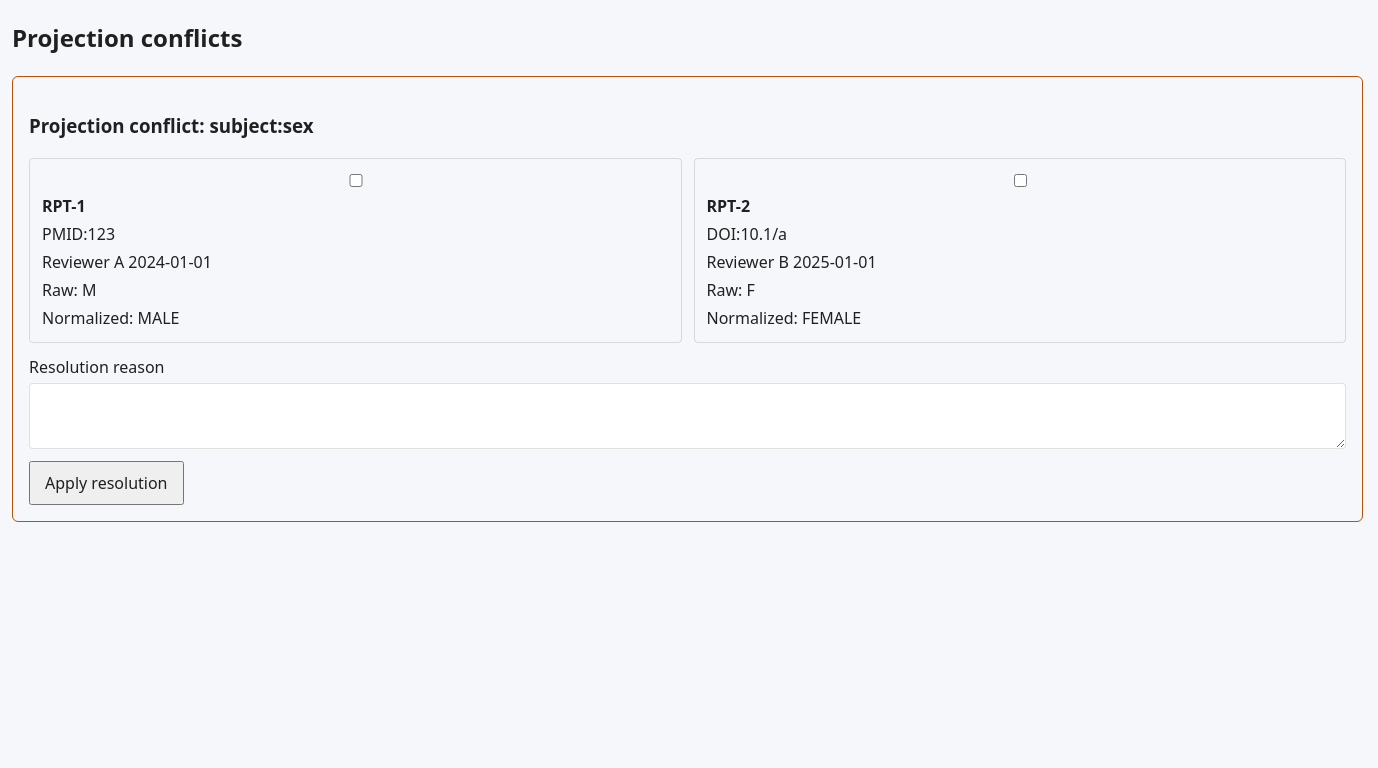
it: ConflictResolutionPanel › shows evidence side by side and requires a rationale
The image size is (1378, 768).
Click the checkbox labelled "RPT-1 PMID:123 Reviewer A 2024-01-01 Raw: M Normalized: MALE" at (356, 181), box [46,174,666,187]
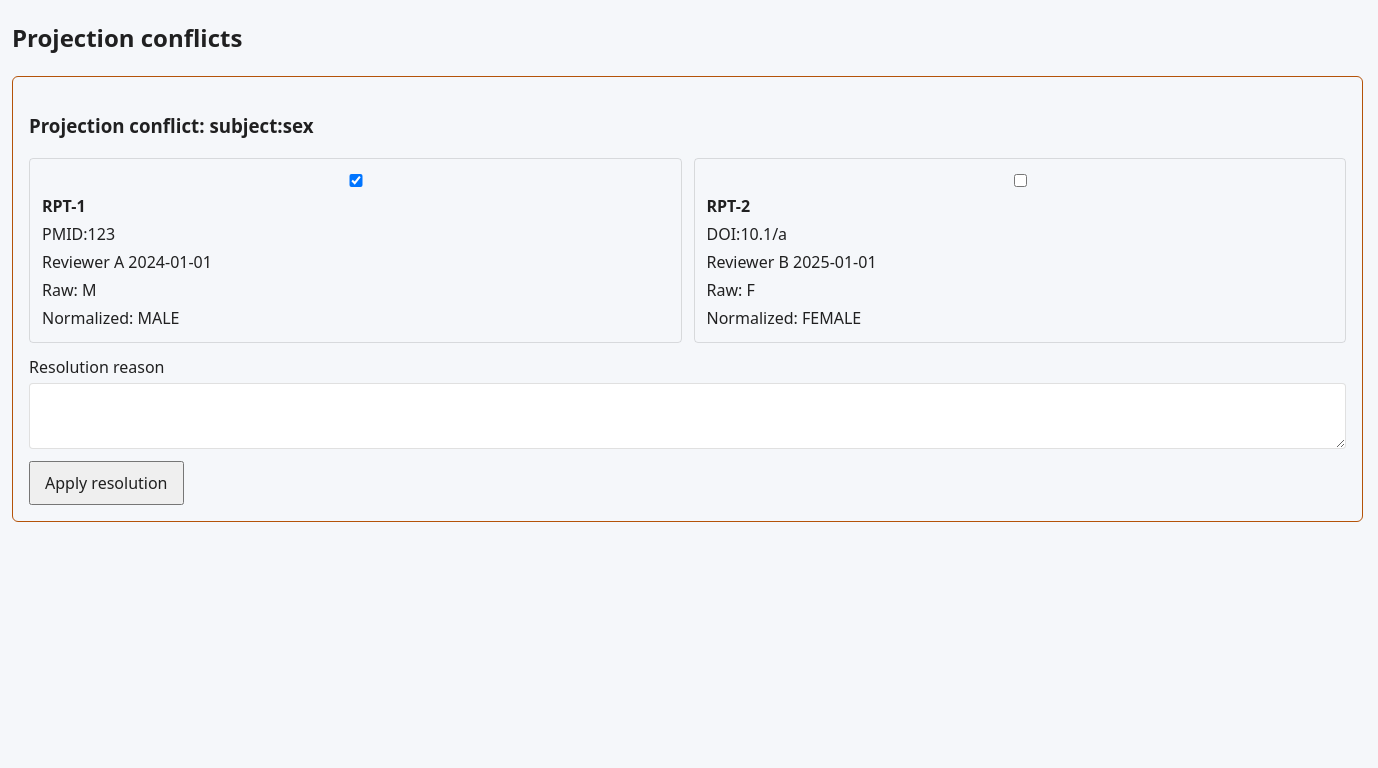
Click the button "Apply resolution" at (106, 483), box [29,461,184,505]
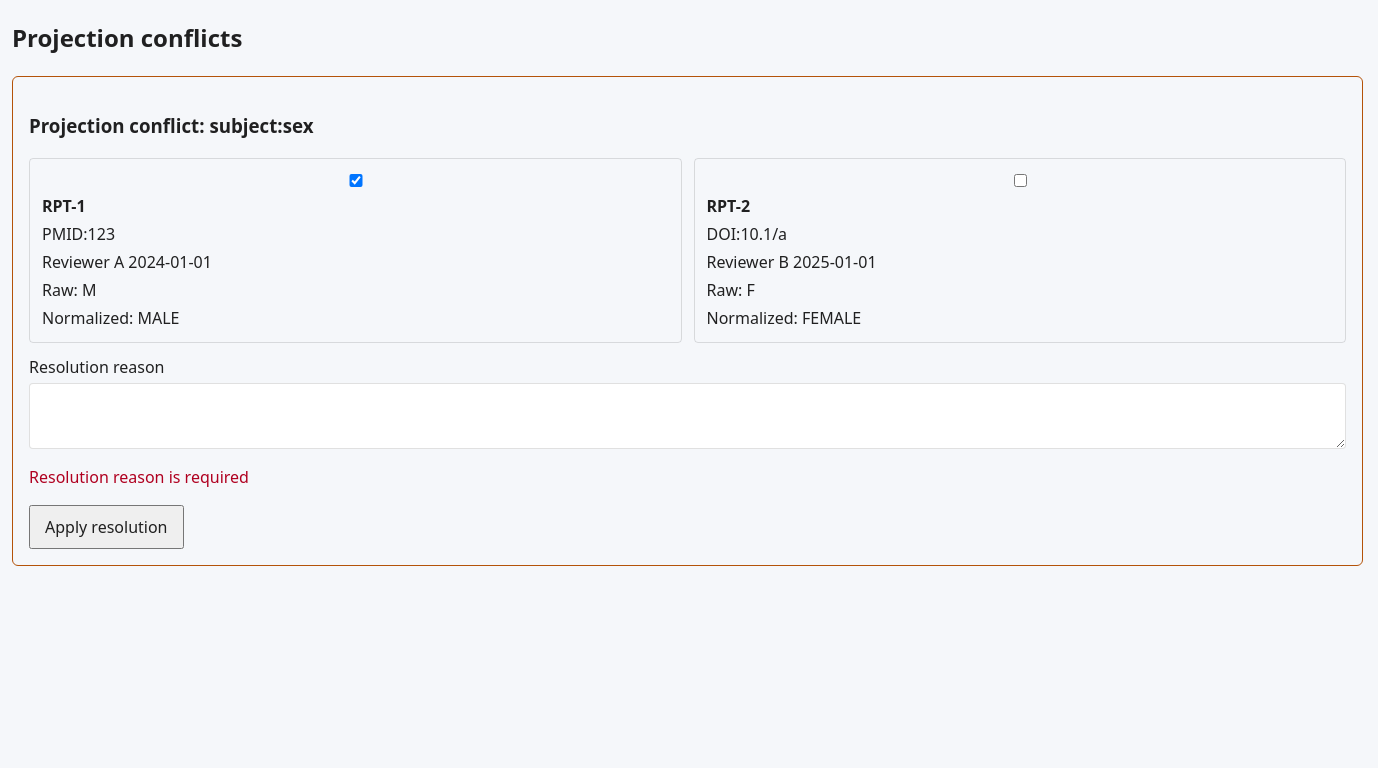
Now the text "Resolution reason is required" is shown, box [29,466,249,488]
